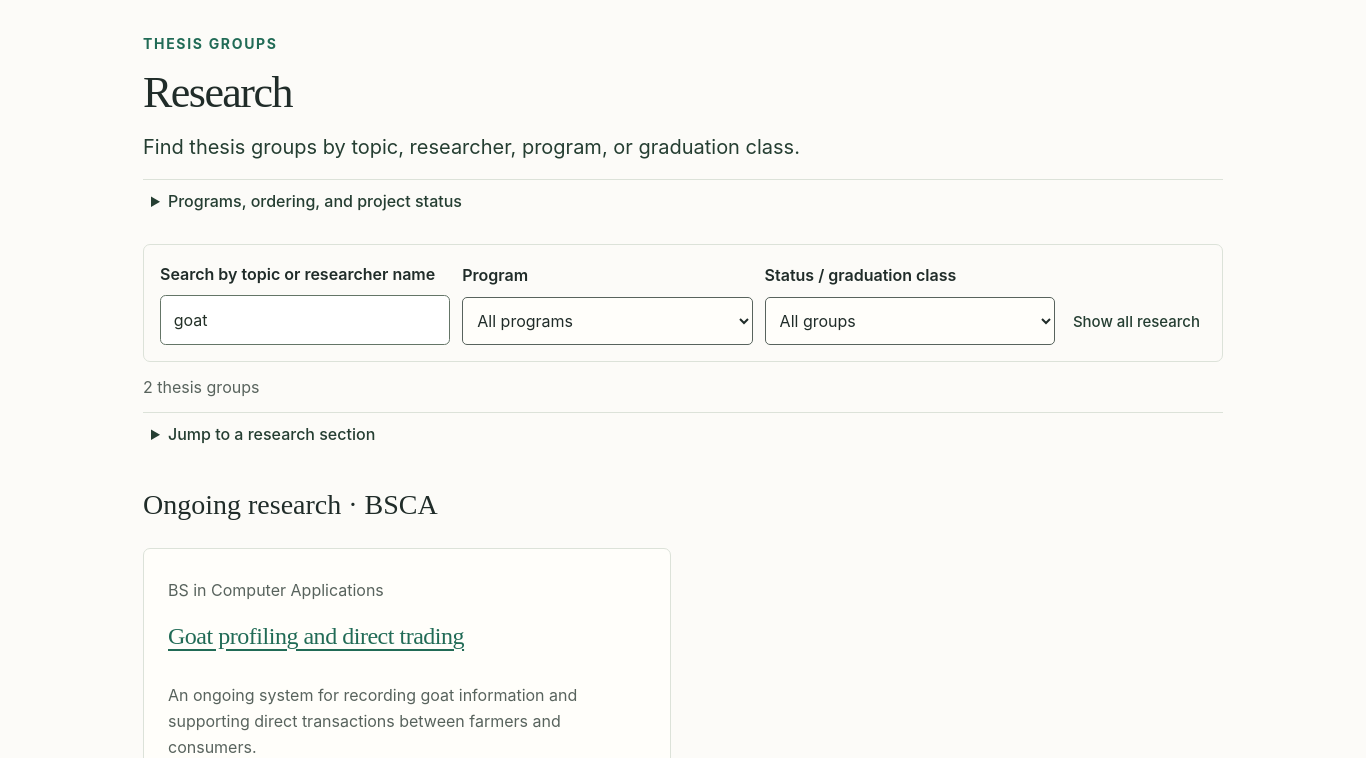
combines topic, program, and cohort filters and recovers from no results
Expected: the search field holds "goat", [160,295,450,345]
Select "Current researchers" in the dropdown labelled "Status / graduation class": (910, 321) [765,297,1055,345]
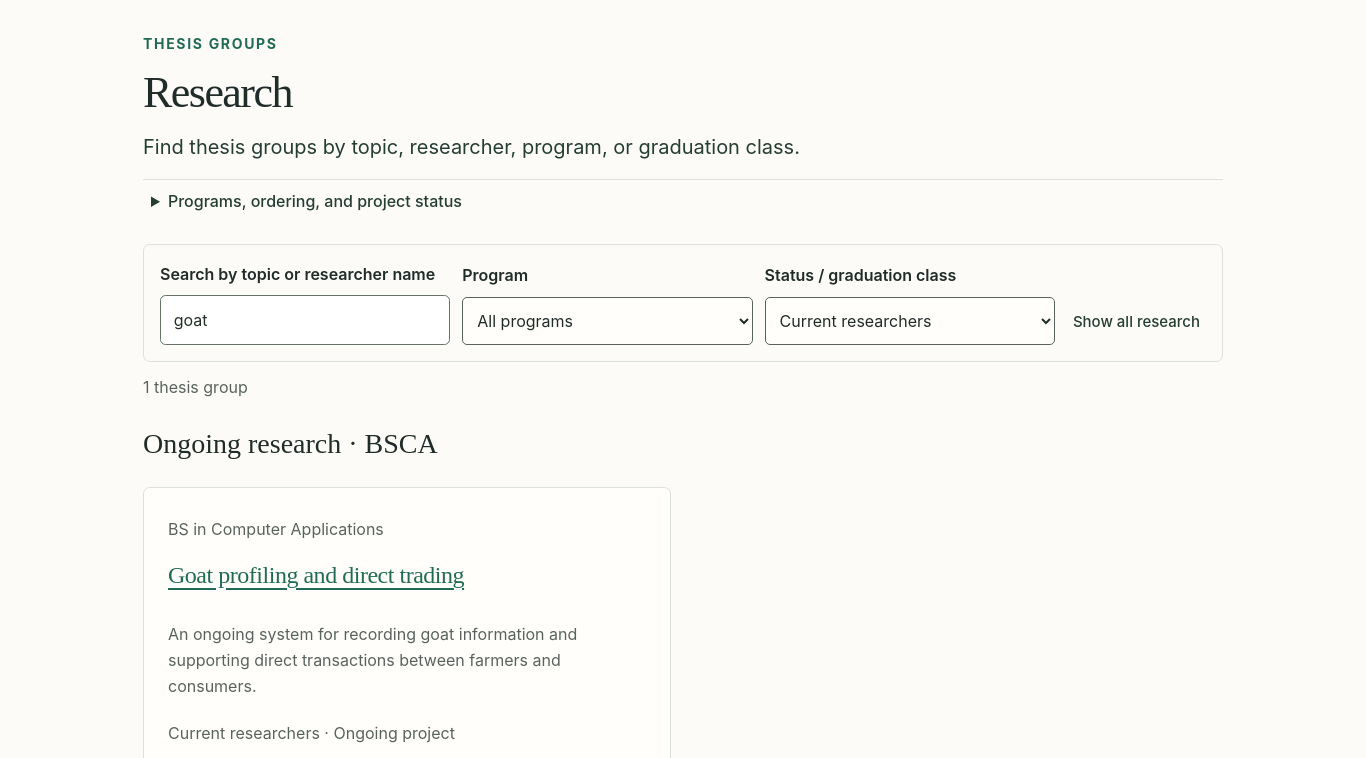
Select "MS in Computer Applications" in the dropdown labelled "Program": (607, 321) [462,297,753,345]
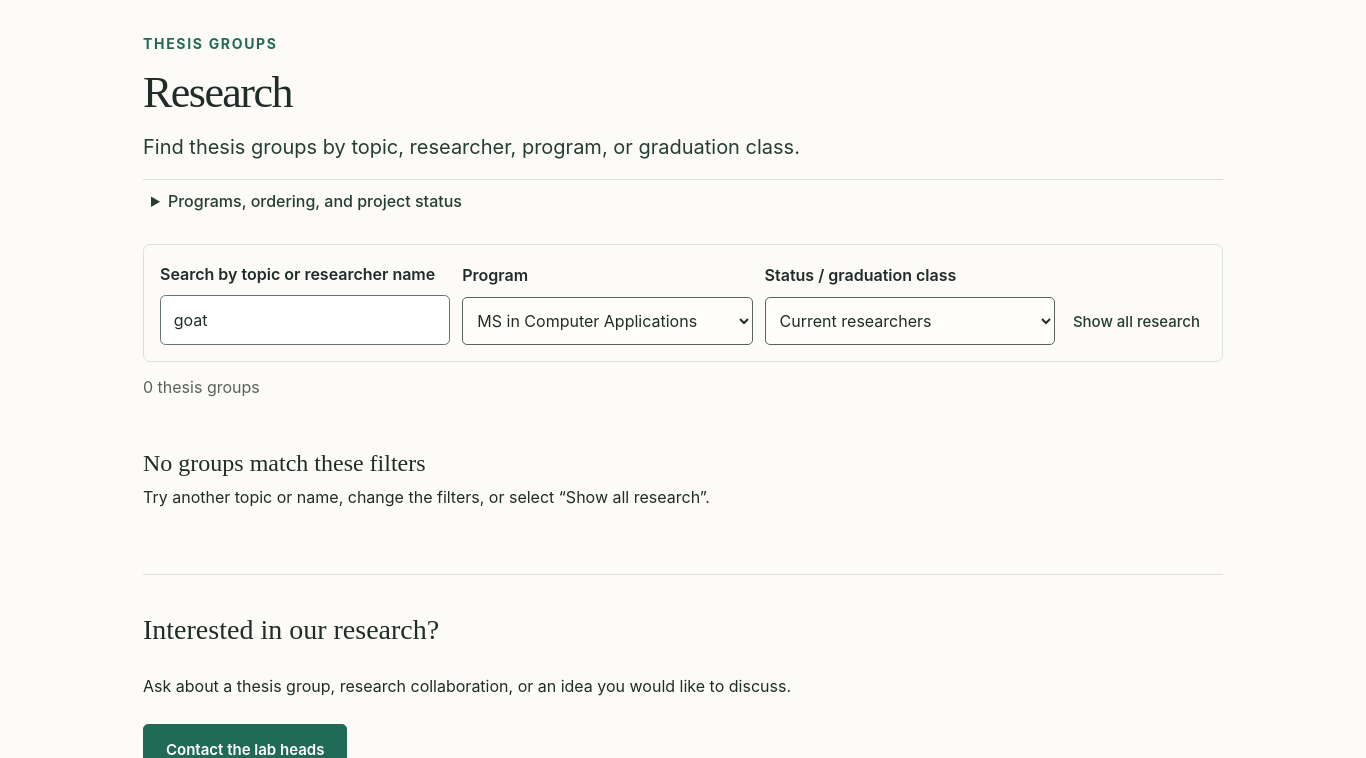
Now the heading "No groups match these filters" is shown, box [143,450,426,476]
Click the button "Show all research": (1136, 323) [1067,301,1206,345]
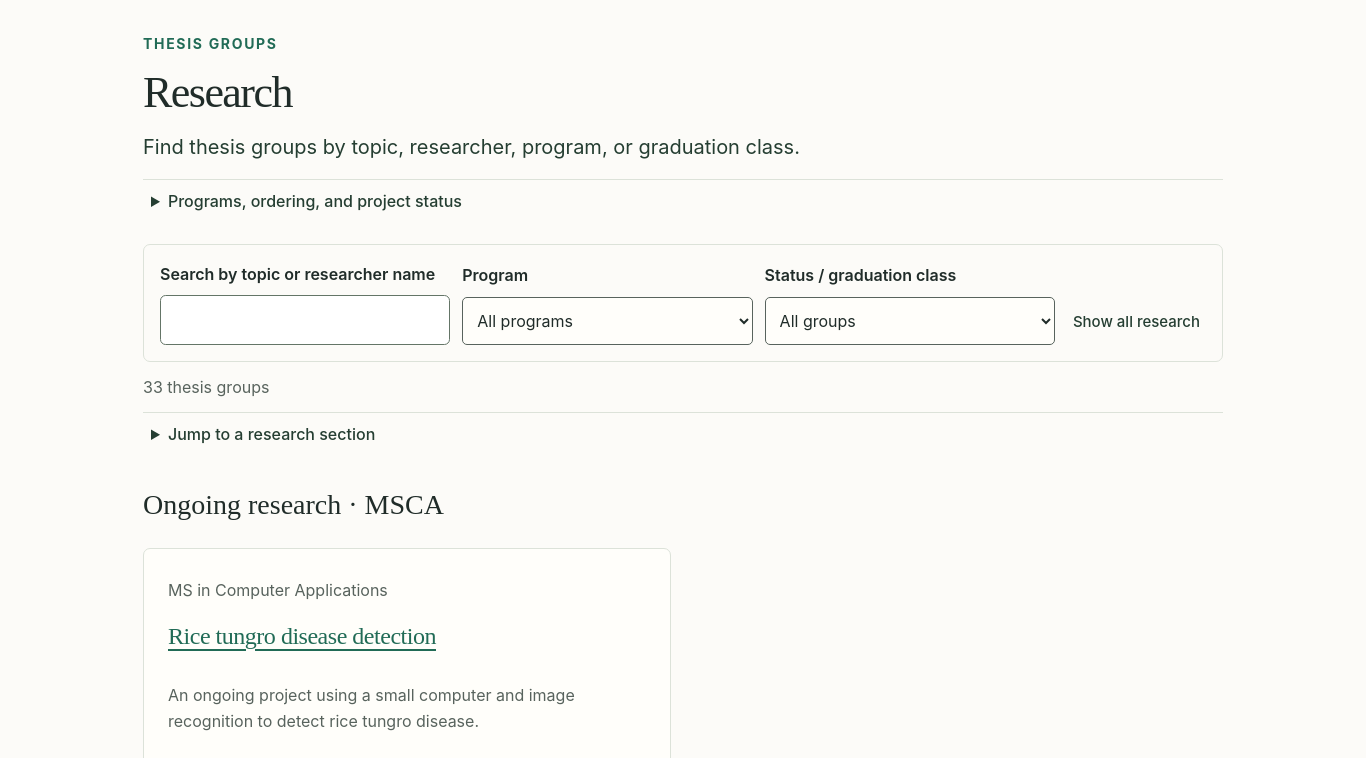
Now the search field is empty, box [160,295,450,345]
Now the number of elements with class "research-card" is 33
